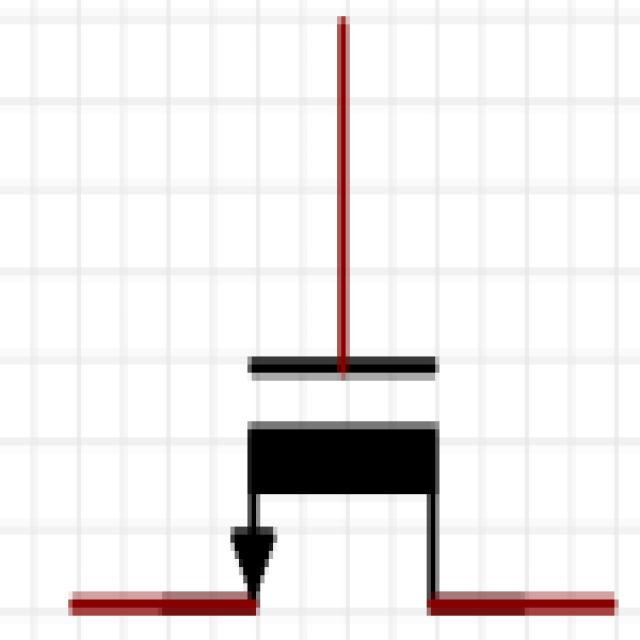nmos: (58, 20, 618, 640)
